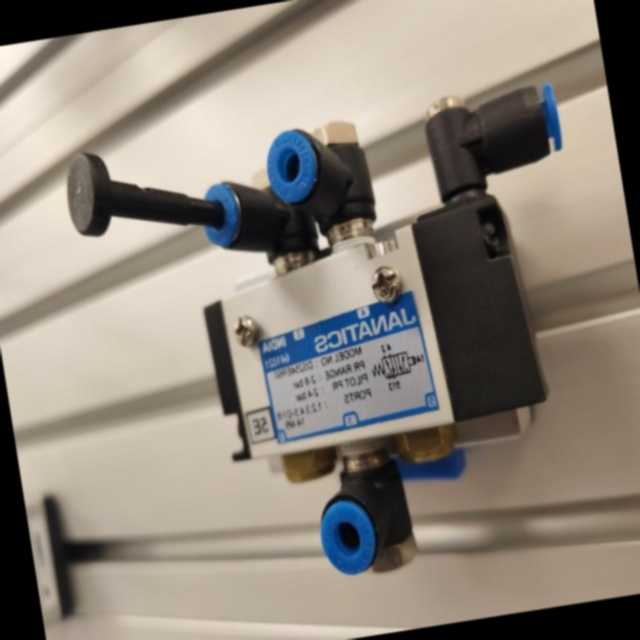5by2 DCV: (45, 58, 637, 625)
